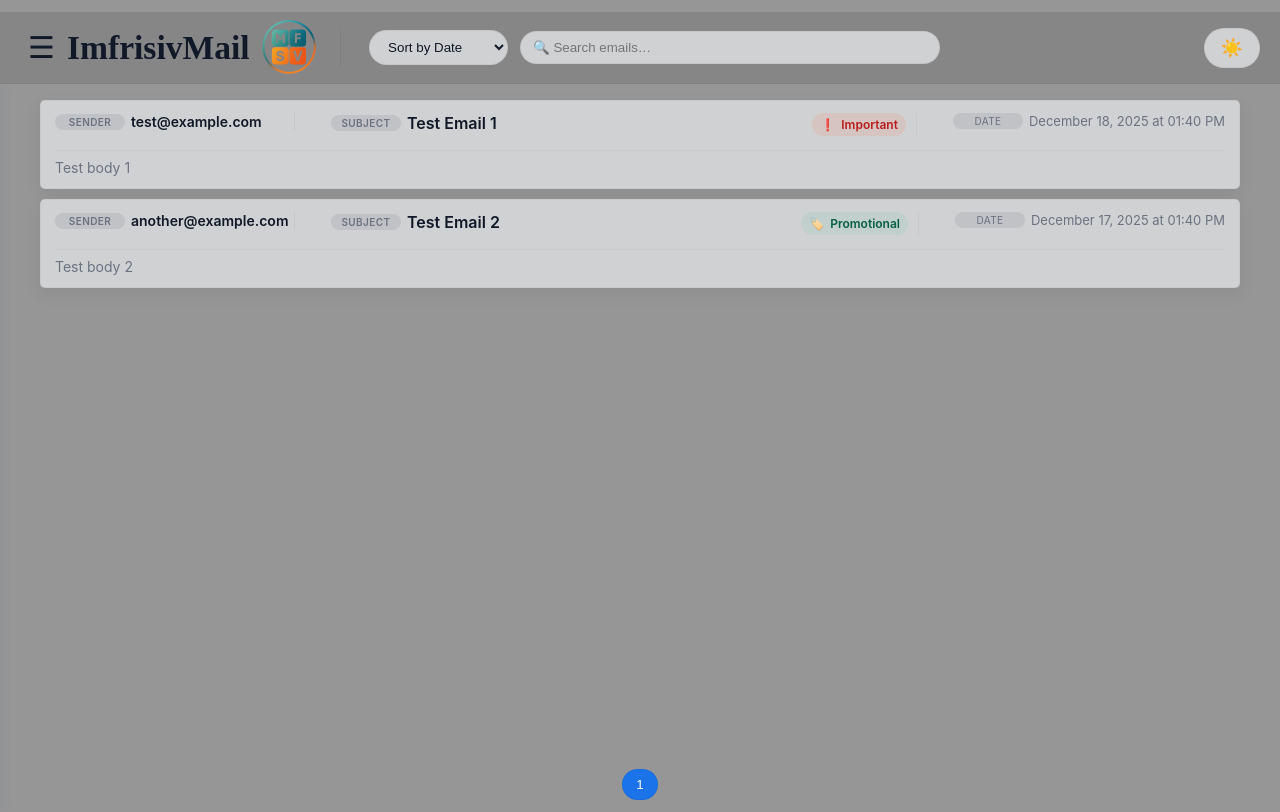
Test: Homepage Component › filters emails by search query
This screenshot has width=1280, height=812.
Step 1. Type "Test Email 1" into the field with placeholder "🔍 Search emails…" → (730, 48), box top-left (520, 31), bottom-right (940, 64)
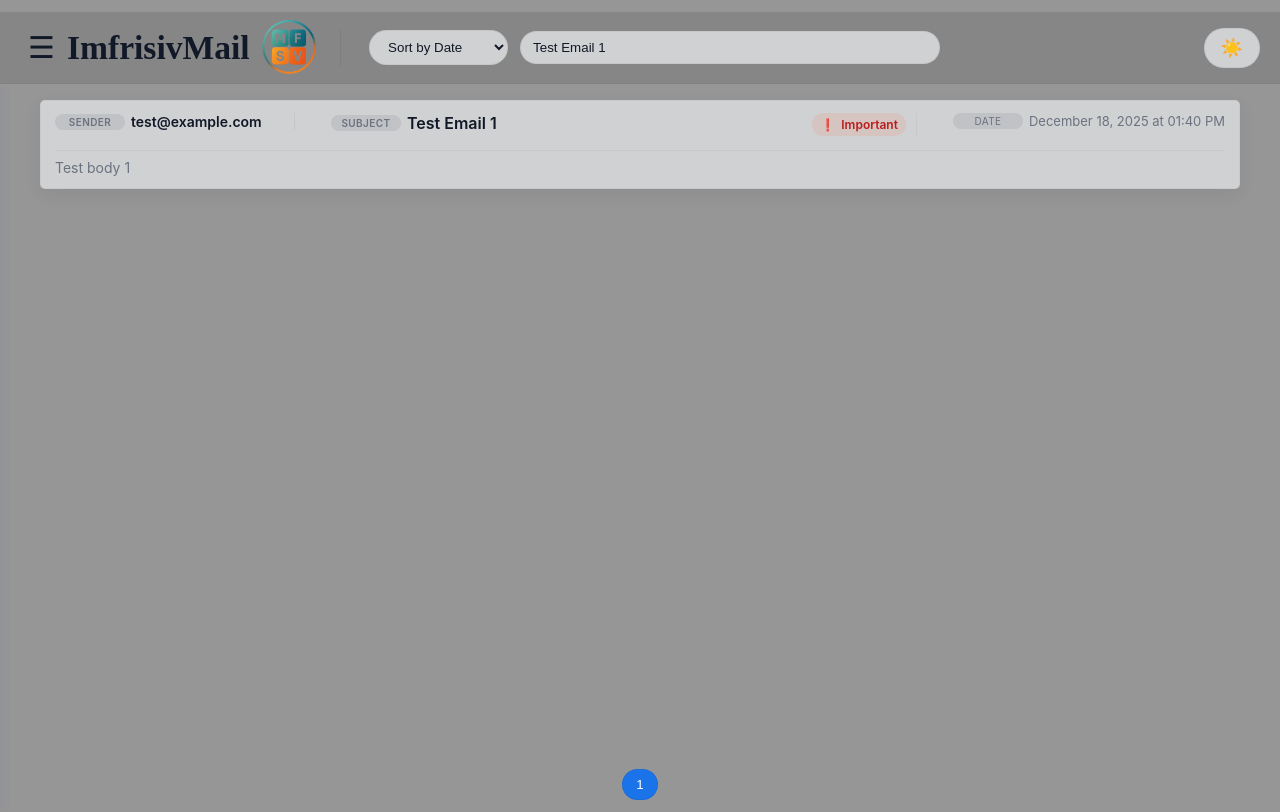
Expected: the text "Test Email 1" is shown, top-left (407, 113), bottom-right (497, 133)
Now the text "Test Email 2" is gone
